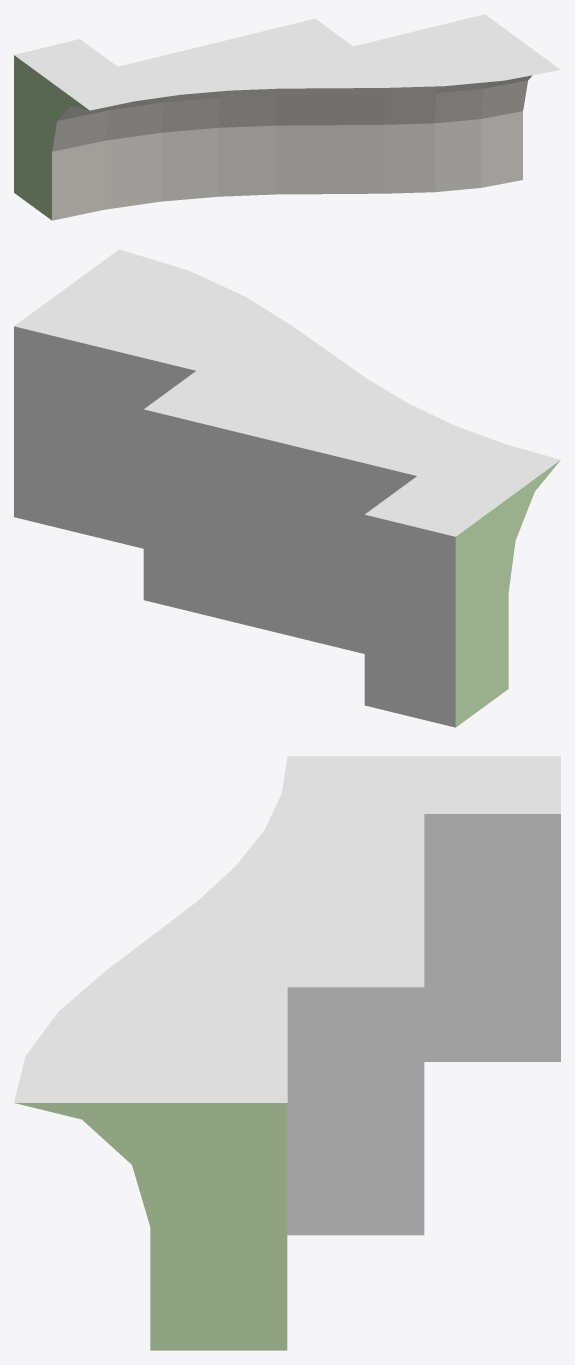
Rendered from Wall_Esse_4x6_Top.glb.
The picture shows the model from 3 angles, top to bottom: view 1: azimuth 30°, elevation 25°; view 2: azimuth 150°, elevation 25°; view 3: azimuth 270°, elevation 25°; orthographic projection. The views are drawn at different scales.
Parts seen in each view (by area): view 1: Wall_Esse_4x6_Top; view 2: Wall_Esse_4x6_Top; view 3: Wall_Esse_4x6_Top.
Boxes of the visible parts, x1,y1,x2,y2 form: Wall_Esse_4x6_Top: (14, 14, 560, 220); Wall_Esse_4x6_Top: (14, 249, 560, 727); Wall_Esse_4x6_Top: (14, 756, 560, 1350).
Size of the model in its own units: 600 by 200 by 400.
